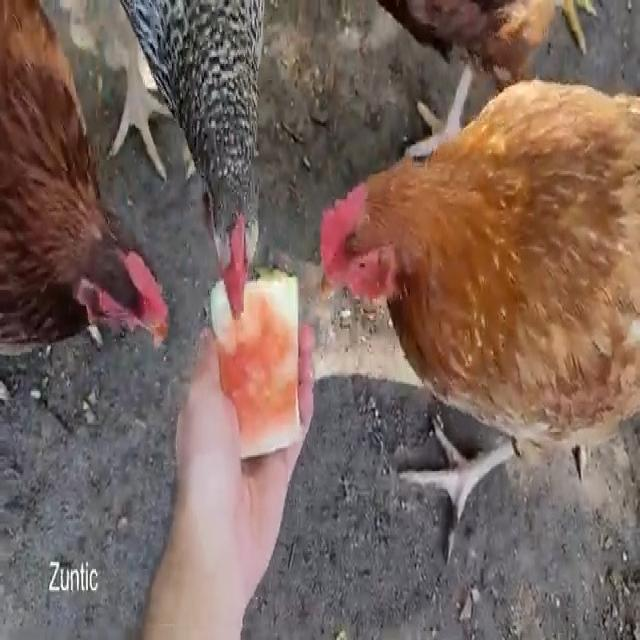feeding: (314, 80, 640, 532), (0, 0, 174, 366), (141, 0, 289, 379)
